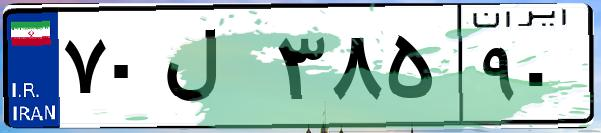0: (525, 38, 570, 115), (110, 28, 158, 98)
3: (270, 28, 330, 110)
5: (385, 28, 445, 110)
7: (57, 26, 110, 100)
8: (330, 28, 385, 110)
9: (475, 38, 525, 113)
ل: (158, 20, 270, 120)
